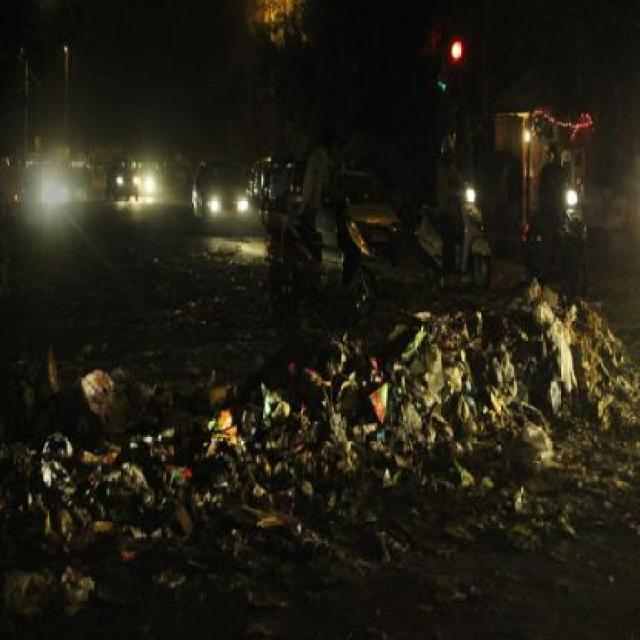garbage: (242, 334, 543, 487), (23, 365, 244, 565), (477, 277, 614, 404)
